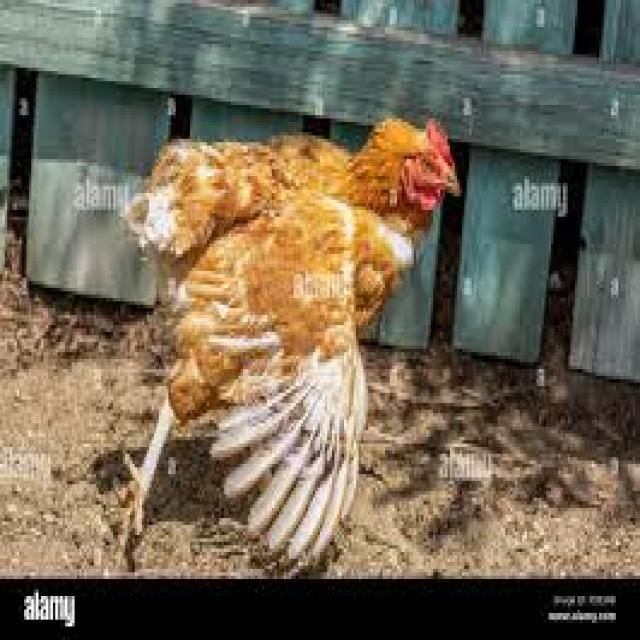leg stretching: (116, 100, 484, 555)
